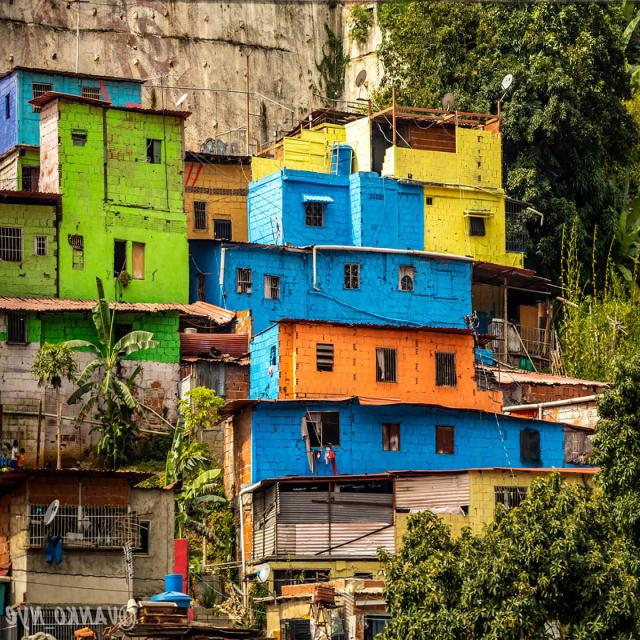Fachada: (248, 106, 523, 267), (40, 90, 189, 302), (234, 399, 574, 483), (189, 240, 471, 334), (250, 319, 493, 410), (1, 66, 142, 190), (183, 151, 252, 241), (1, 203, 57, 296)
